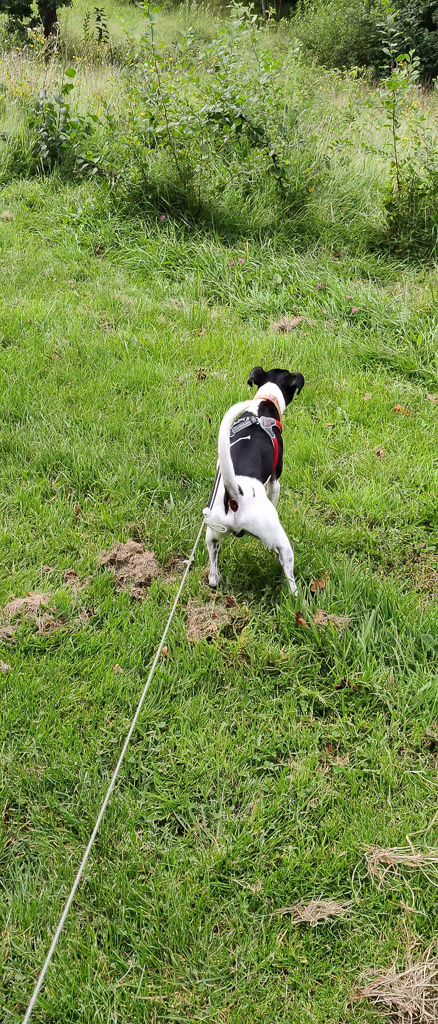Dog: (193, 358, 320, 611)
